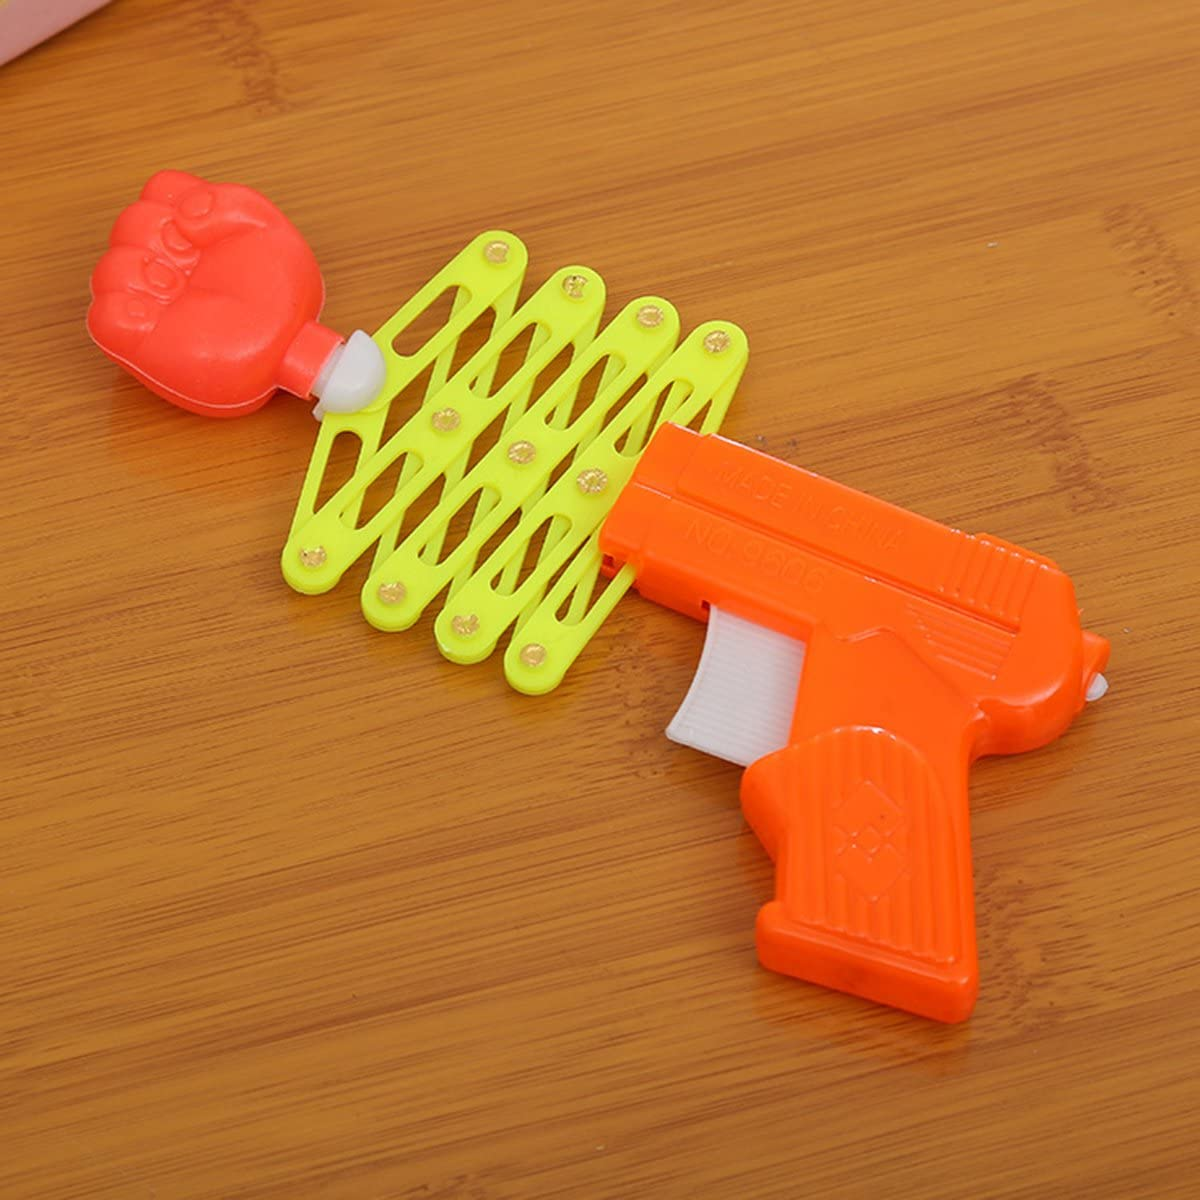Arma Falsa: (74, 160, 1133, 1020)
